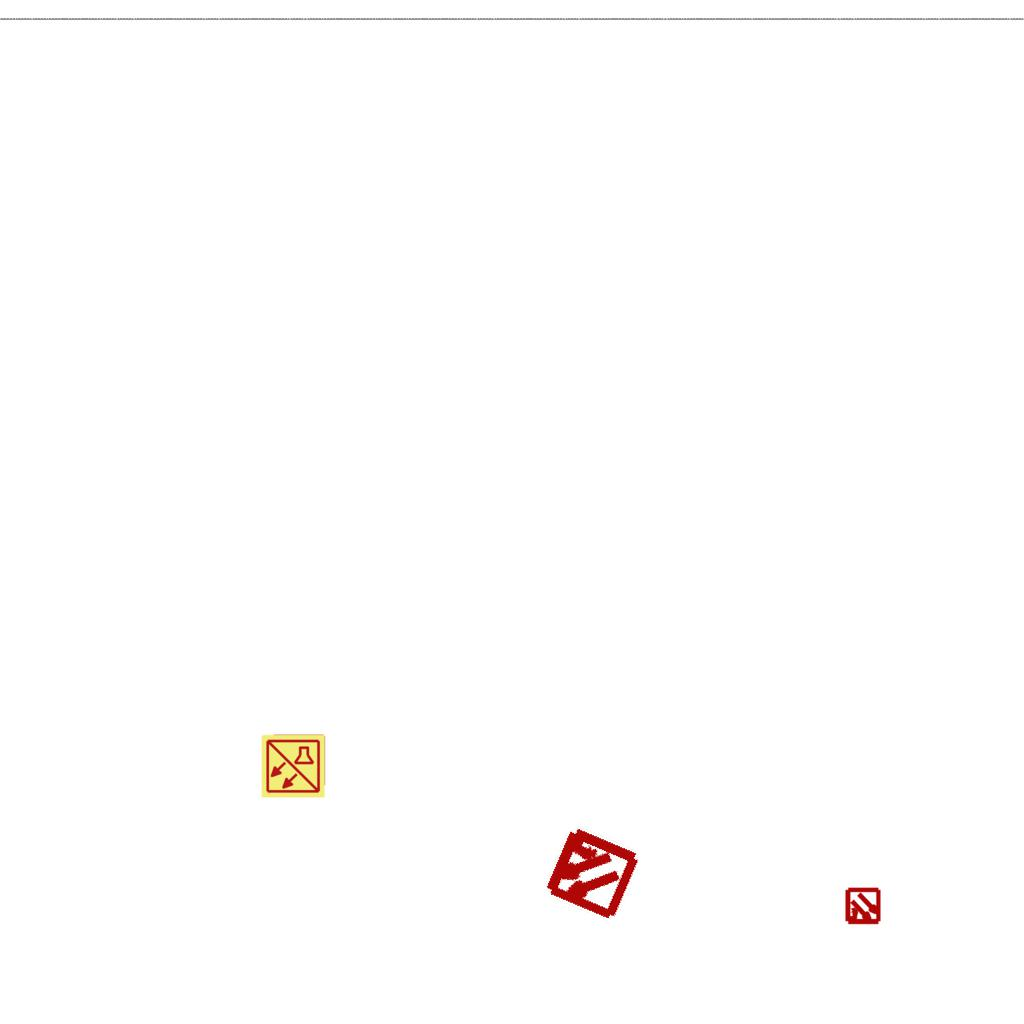OKW_Multisensormelder_(Kombination_optischer_Rauch-Kahlenmonoxid_Waerme-Melder): (260, 733, 326, 799)
OT_Multisensormelder_(Kombination_RMO_WMD): (516, 798, 665, 947), (835, 879, 891, 935)
